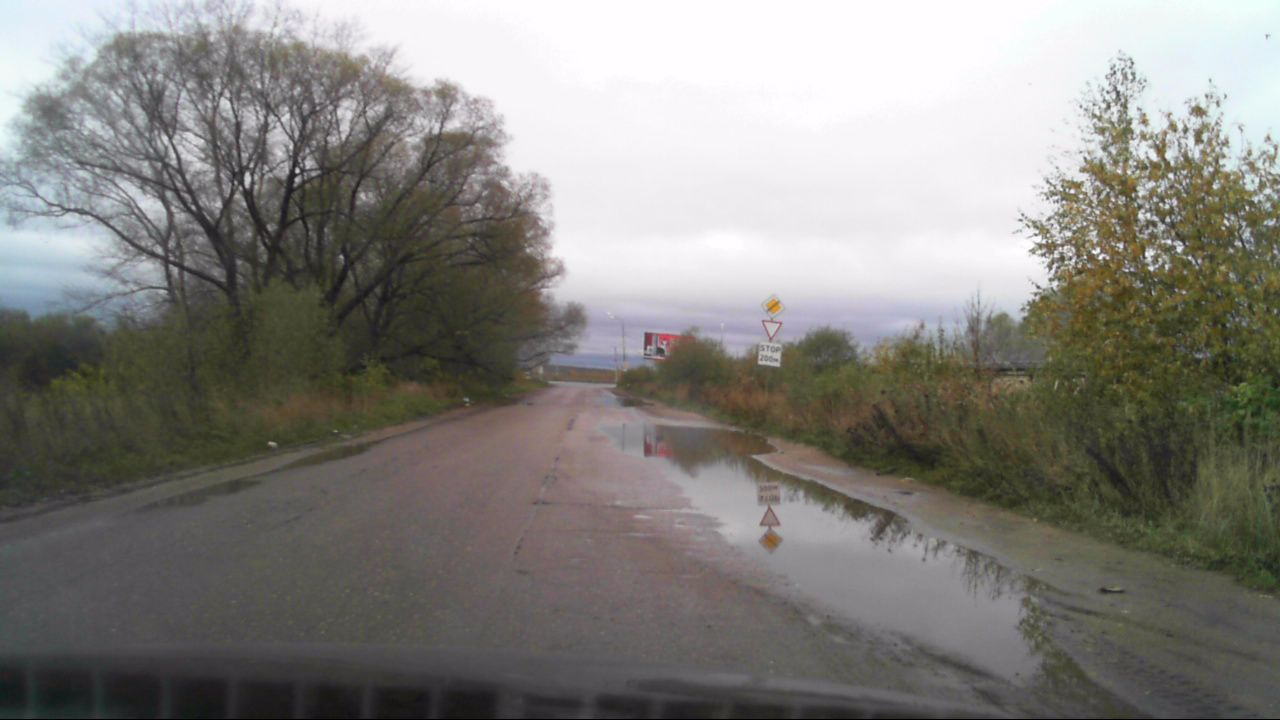main road: (760, 291, 785, 318)
